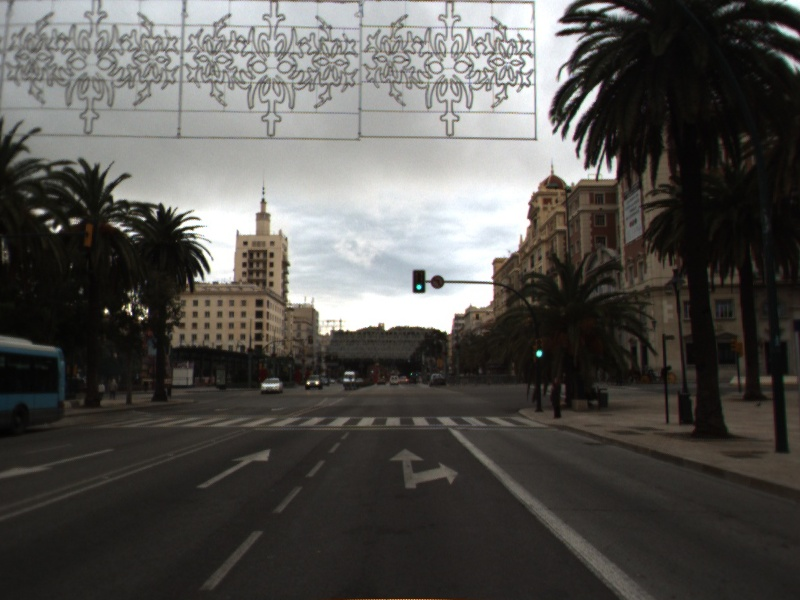STRAIGHT: (194, 447, 272, 490)
STRAIGHT_RIGHT: (387, 446, 460, 490)
